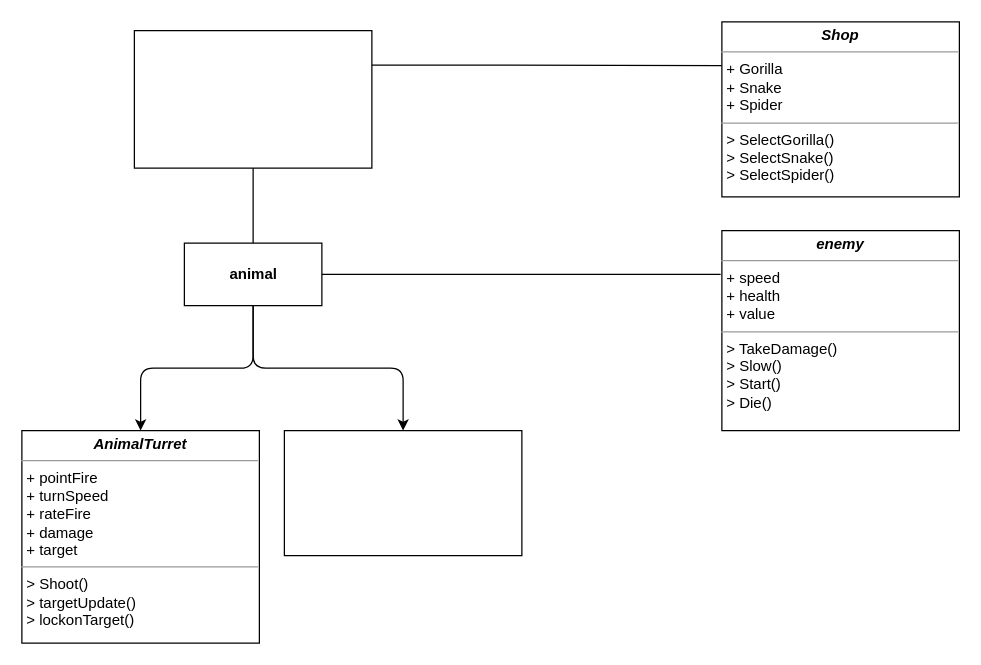
The diagram is 981 pixels wide and 665 high, and some of its shapes have lost their labels. The box of each missing label's shape, as (x1, y1, x2, y2) in pixels:
AnimalBlueprint + cost + upgradeCost > SellCost(): (283, 429, 522, 556)
Player + Gold + Lives + Wave > start(): (133, 29, 372, 168)
